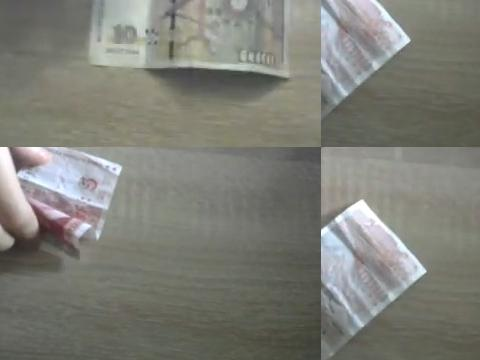5leva: (321, 200, 427, 360), (321, 0, 411, 126), (18, 147, 122, 255)
